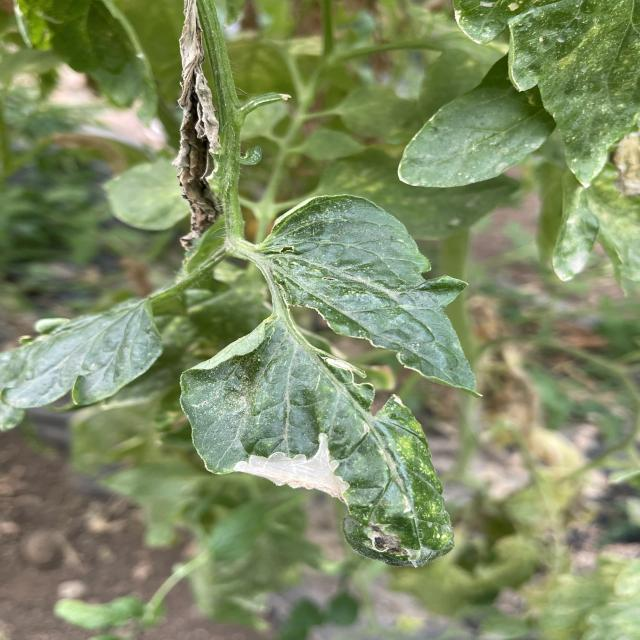Tuta absoluta: (232, 417, 360, 501)
